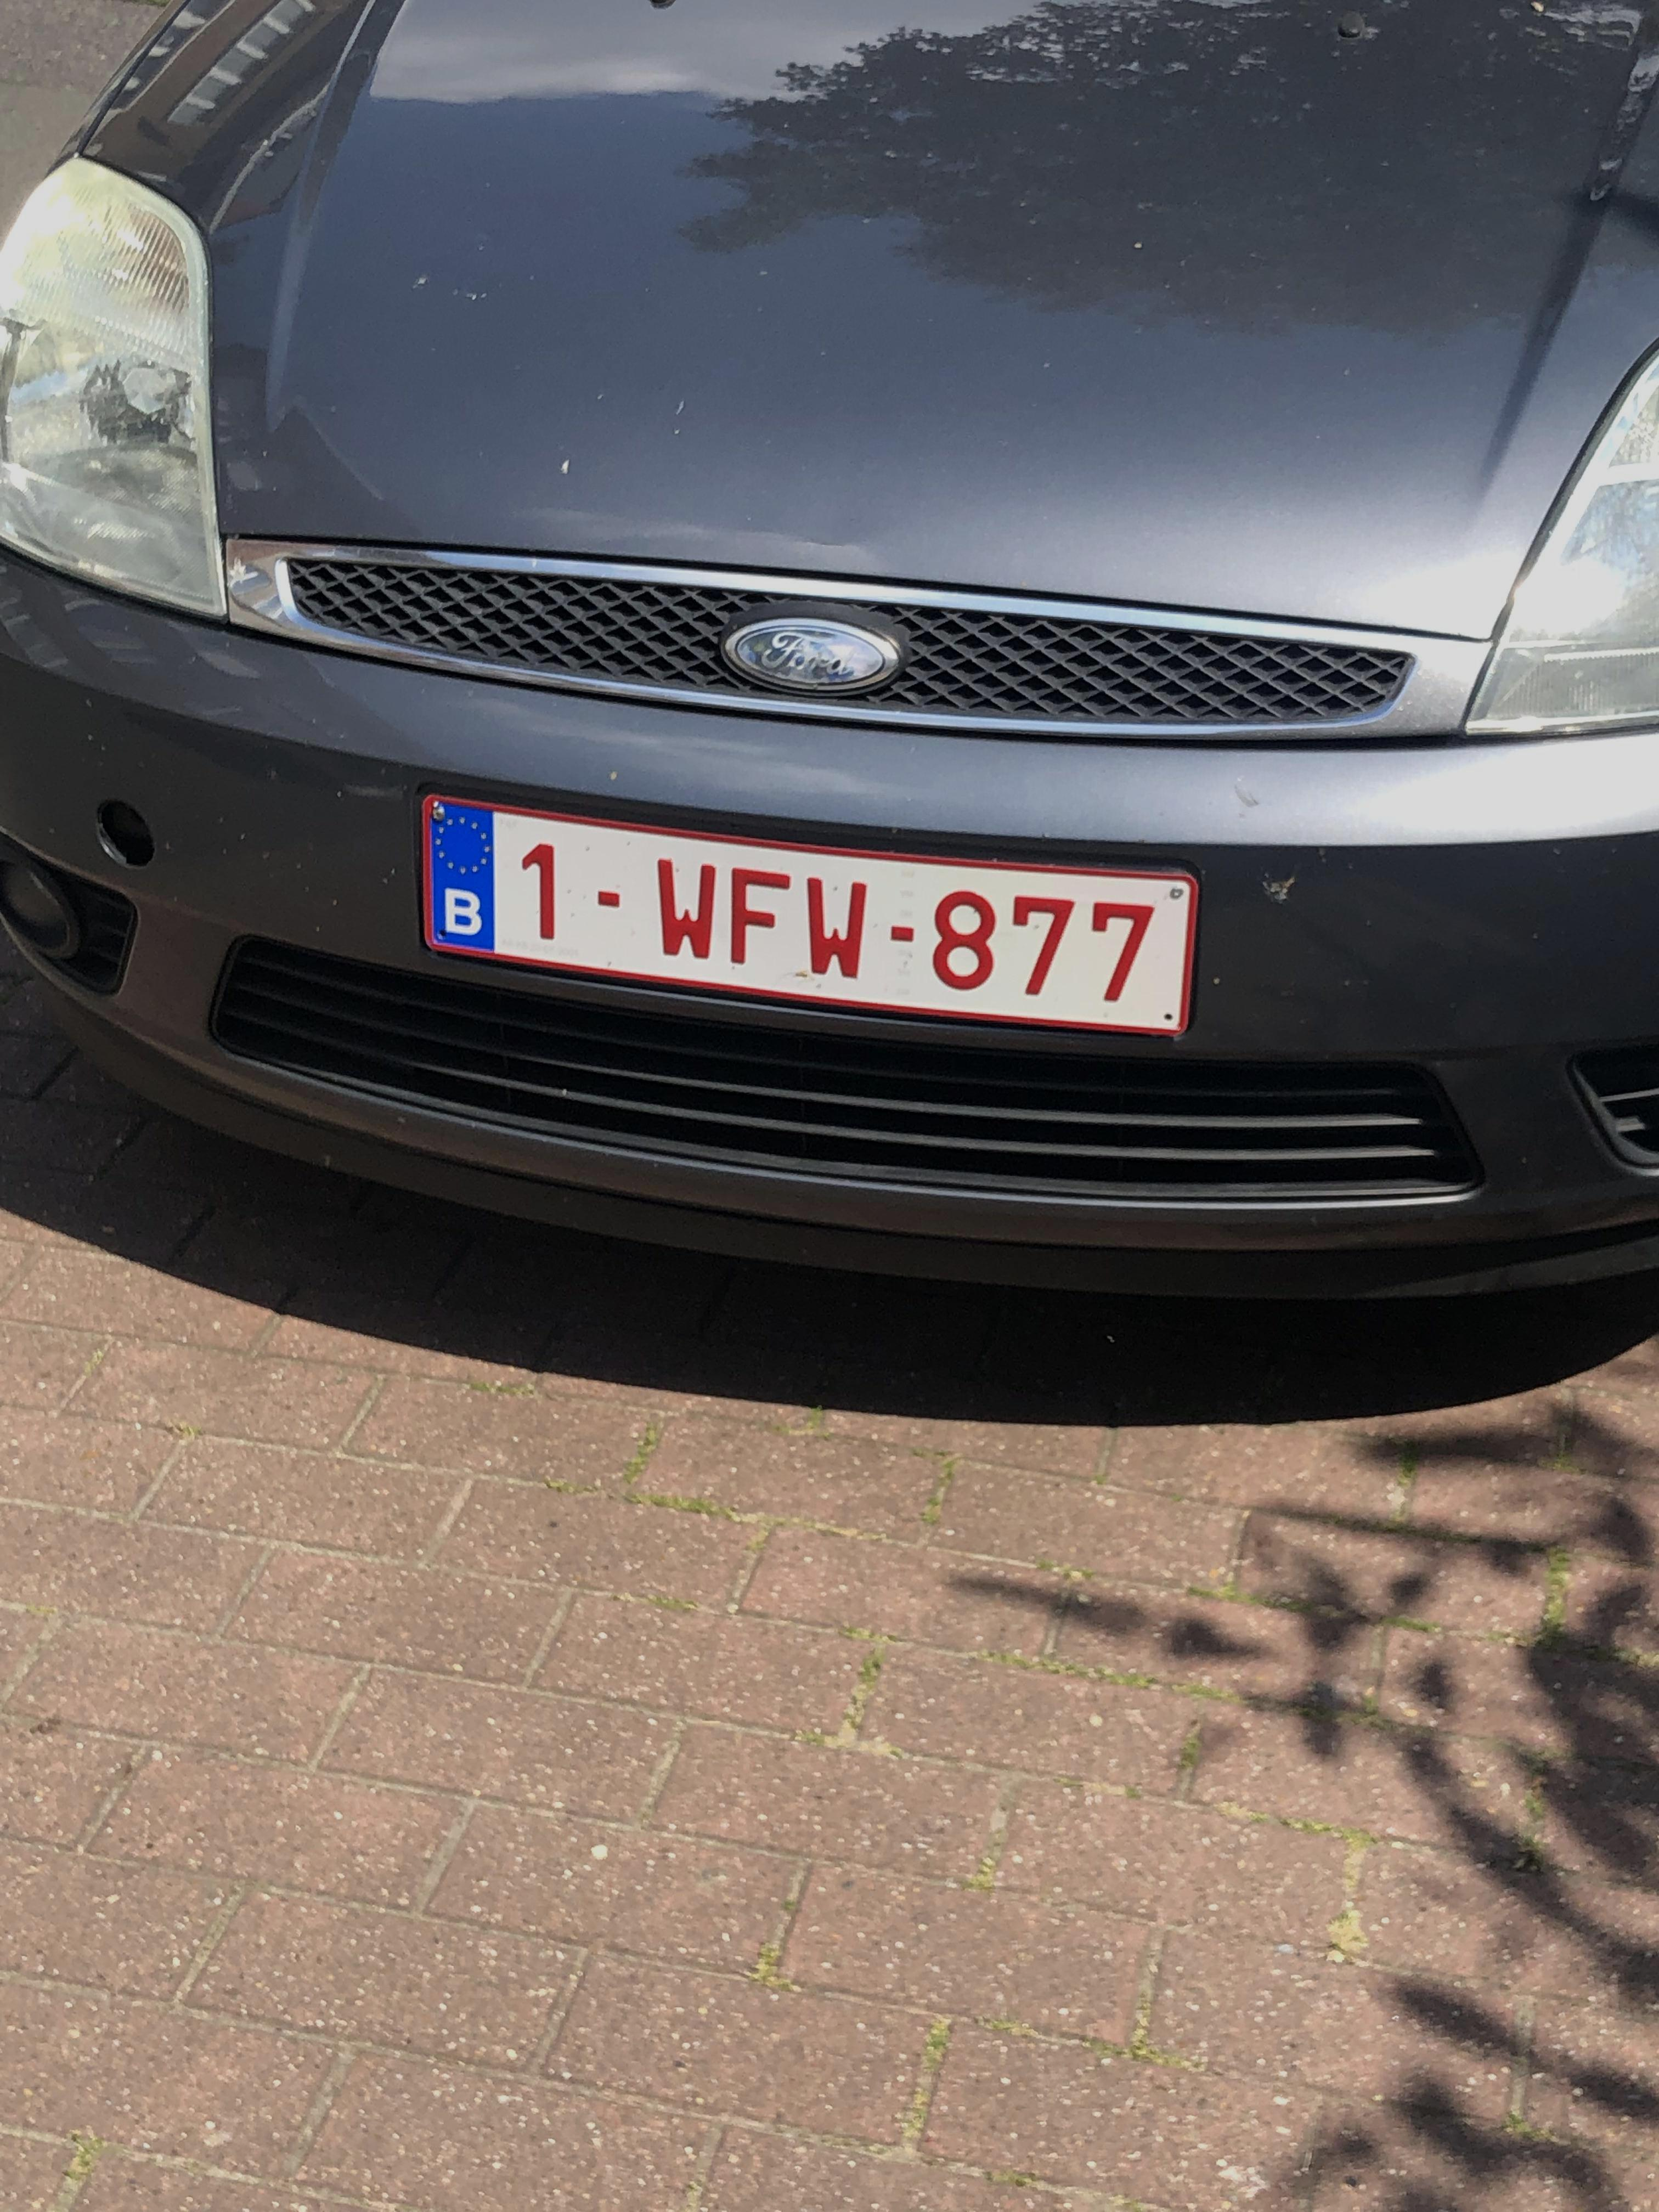plate: (405, 753, 1228, 1080)
